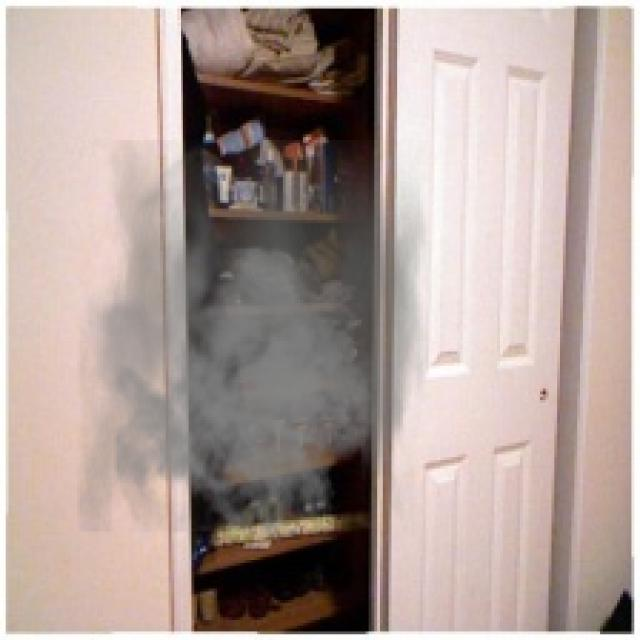smoke: (77, 140, 429, 546)
